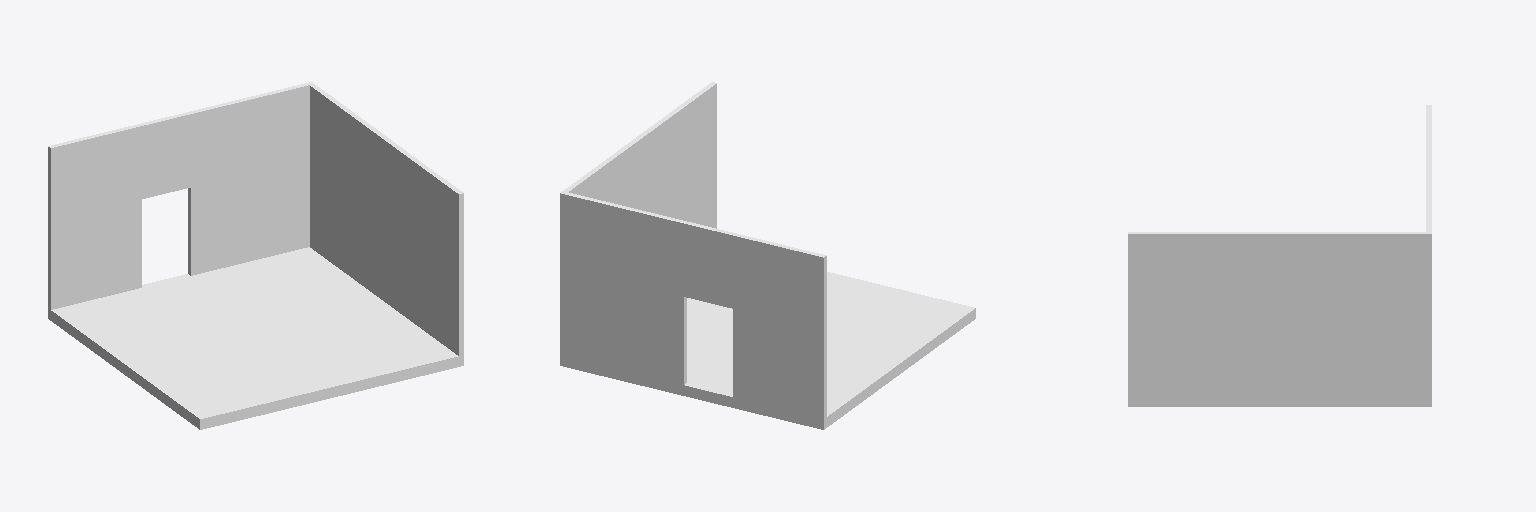
The model's file is test_room.obj.
3 renders of one model, left to right at view 1: azimuth 30°, elevation 25°; view 2: azimuth 150°, elevation 25°; view 3: azimuth 270°, elevation 25°, orthographic.
Parts seen in each view (by area): view 1: object 1; view 2: object 1; view 3: object 1.
Part boxes in pixels (x1,y1,x2,y2): object 1: (48, 82, 463, 429); object 1: (560, 82, 975, 429); object 1: (1128, 105, 1431, 406).
Bounding box in the file's own units: 25.6 × 16 × 25.6.